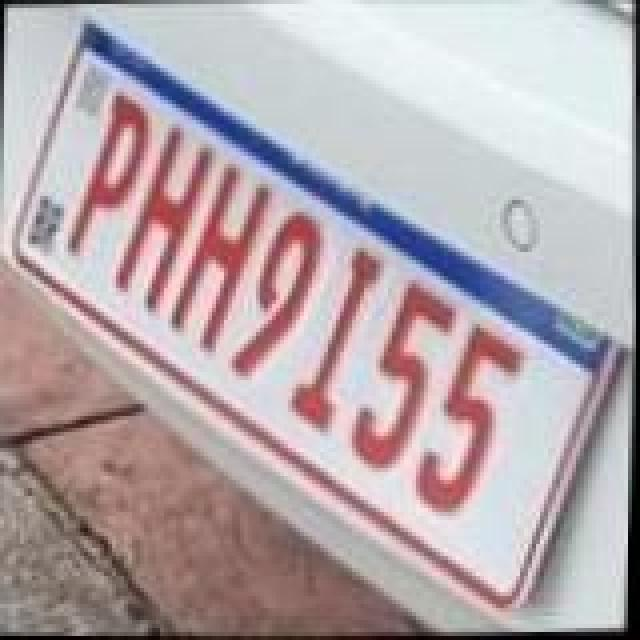5: (410, 318, 538, 514), (342, 280, 466, 472)
9: (224, 210, 328, 378)
H: (158, 162, 282, 358), (108, 126, 228, 318)
I: (280, 248, 392, 436)
P: (58, 86, 158, 258)
